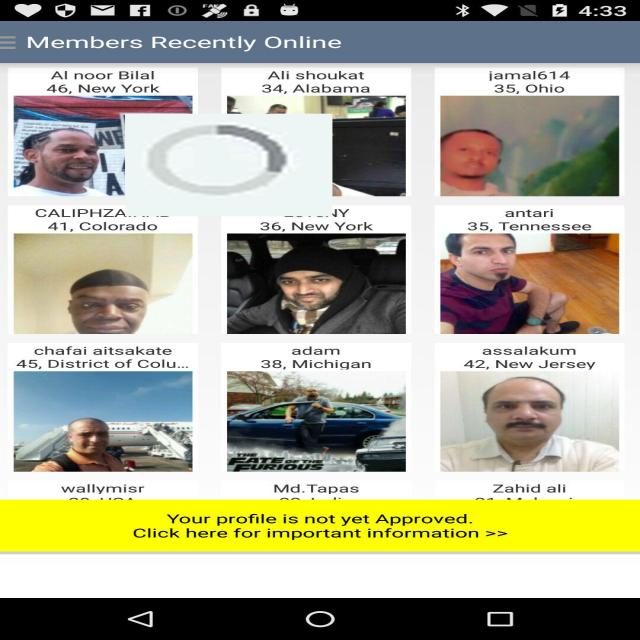misdirection: (125, 114, 332, 216)
